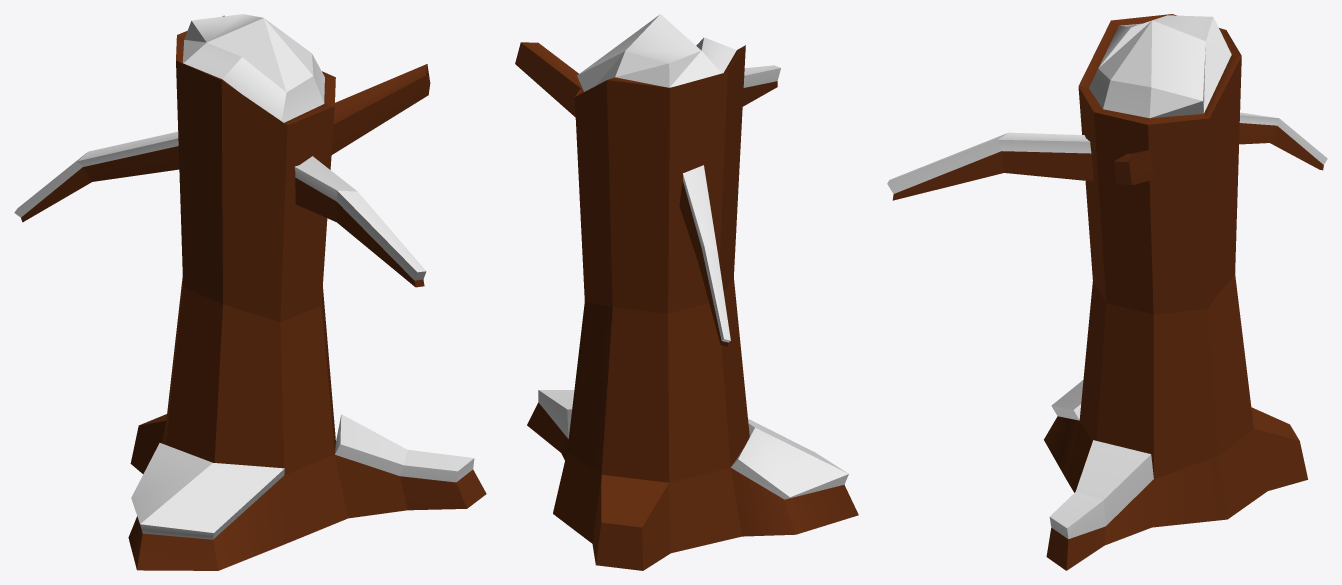
The model's file is Winter_010.fbx.
3 renders of one model, left to right at view 1: azimuth 30°, elevation 25°; view 2: azimuth 150°, elevation 25°; view 3: azimuth 270°, elevation 25°, orthographic. The views are drawn at different scales.
Parts seen in each view (by area): view 1: Winter_010; view 2: Winter_010; view 3: Winter_010.
Boxes of the visible parts, left/top/right/bottom form: Winter_010: left=14, top=14, right=486, bottom=570; Winter_010: left=515, top=14, right=858, bottom=570; Winter_010: left=887, top=14, right=1327, bottom=570.
Bounding box in the file's own units: 1.33 × 1.81 × 1.55.
